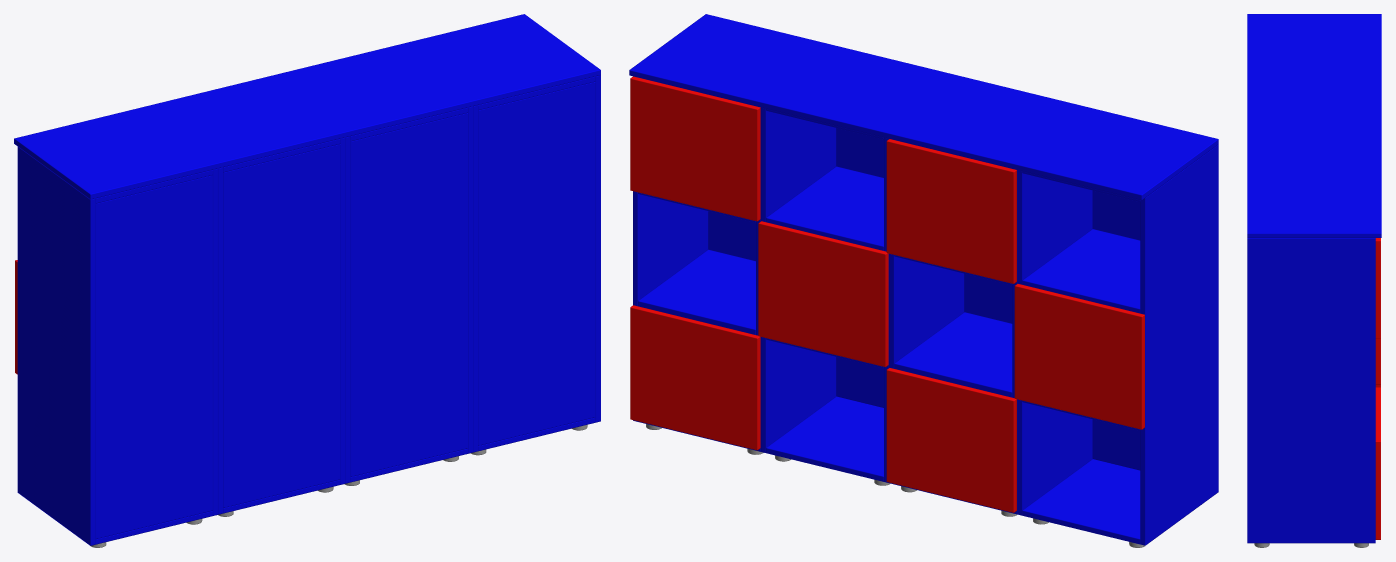
The model's file is BookShelf02.fbx.
3 renders of one model, left to right at view 1: azimuth 30°, elevation 25°; view 2: azimuth 150°, elevation 25°; view 3: azimuth 270°, elevation 25°, orthographic. The views are drawn at different scales.
Parts seen in each view (by area): view 1: polySurface280; view 2: polySurface280; view 3: polySurface280.
Boxes of the visible parts, x1,y1,x2,y2 form: polySurface280: [14, 14, 600, 545]; polySurface280: [629, 14, 1218, 545]; polySurface280: [1247, 14, 1381, 543].
Bounding box in the file's own units: 2.18 × 1.47 × 0.5639.
